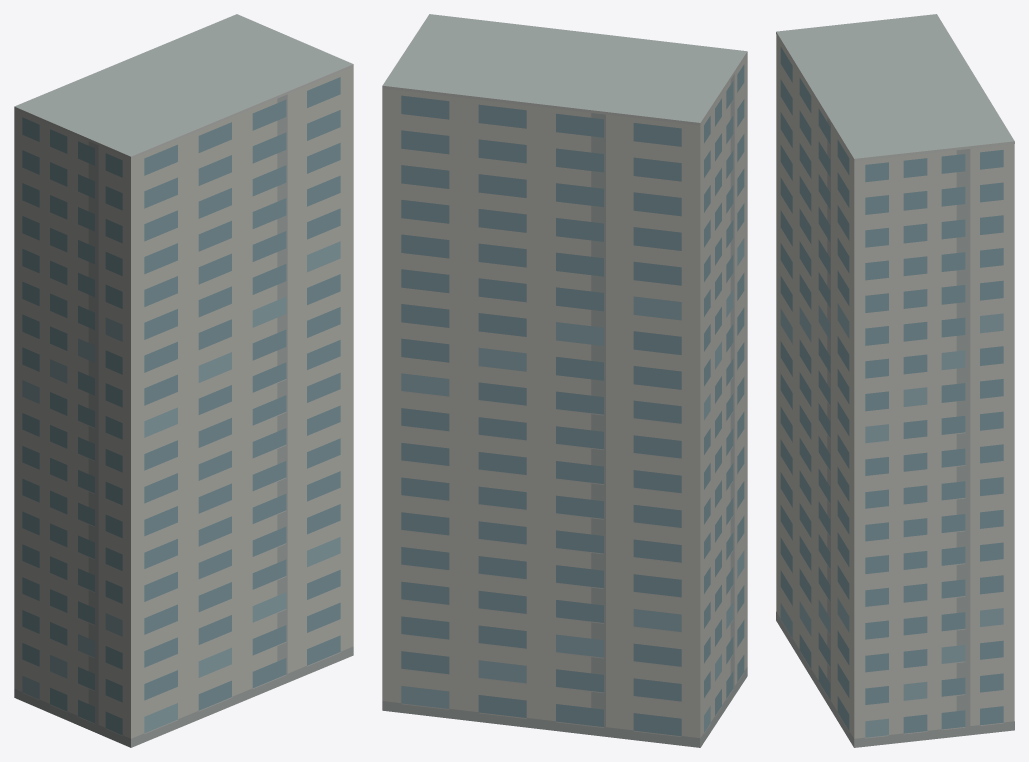
The model's file is residential-e898e1ce-f07a-4ed5-8ecb-c6c2fdbe9cfc.glb.
3 views of the same model, side by side, from view 1: azimuth 30°, elevation 25°; view 2: azimuth 150°, elevation 25°; view 3: azimuth 270°, elevation 25° (orthographic). The views are drawn at different scales.
Parts seen in each view (by area): view 1: residential-e898e1ce-f07a-4ed5-8ecb-c6c2fdbe9cfc.tmp; view 2: residential-e898e1ce-f07a-4ed5-8ecb-c6c2fdbe9cfc.tmp; view 3: residential-e898e1ce-f07a-4ed5-8ecb-c6c2fdbe9cfc.tmp.
Boxes of the visible parts, box(x1,y1,x2,y2) form: residential-e898e1ce-f07a-4ed5-8ecb-c6c2fdbe9cfc.tmp: box(14, 14, 353, 747); residential-e898e1ce-f07a-4ed5-8ecb-c6c2fdbe9cfc.tmp: box(382, 14, 747, 747); residential-e898e1ce-f07a-4ed5-8ecb-c6c2fdbe9cfc.tmp: box(776, 14, 1014, 747).
Bounding box in the file's own units: 29.02 × 55 × 20.2.
